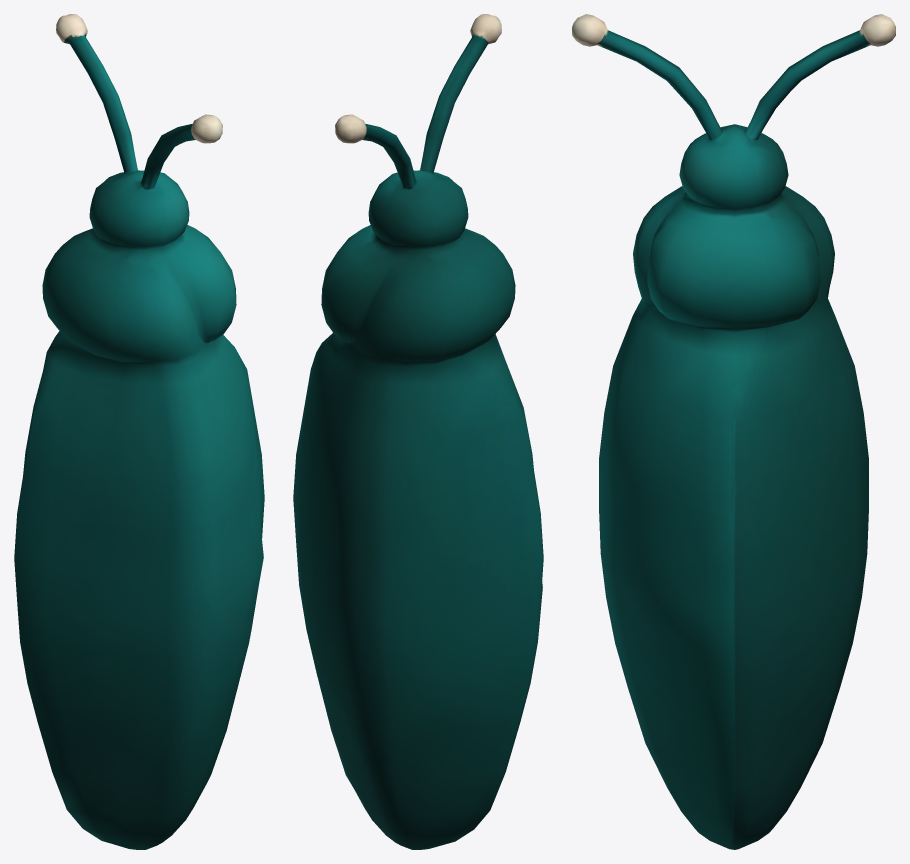
3 renders of one model, left to right at view 1: azimuth 30°, elevation 25°; view 2: azimuth 150°, elevation 25°; view 3: azimuth 270°, elevation 25°, orthographic. The views are drawn at different scales.
Parts seen in each view (by area): view 1: tripo_node_daad87ea-c937-4be5-a1e0-f130854c61a1; view 2: tripo_node_daad87ea-c937-4be5-a1e0-f130854c61a1; view 3: tripo_node_daad87ea-c937-4be5-a1e0-f130854c61a1.
Boxes of the visible parts, box(x1,y1,x2,y2) form: tripo_node_daad87ea-c937-4be5-a1e0-f130854c61a1: box(14, 14, 264, 849); tripo_node_daad87ea-c937-4be5-a1e0-f130854c61a1: box(293, 14, 543, 849); tripo_node_daad87ea-c937-4be5-a1e0-f130854c61a1: box(572, 14, 895, 849).
Size of the model in its own units: 0.0167 by 0.05 by 0.0177.
1 material, 1 textured.
